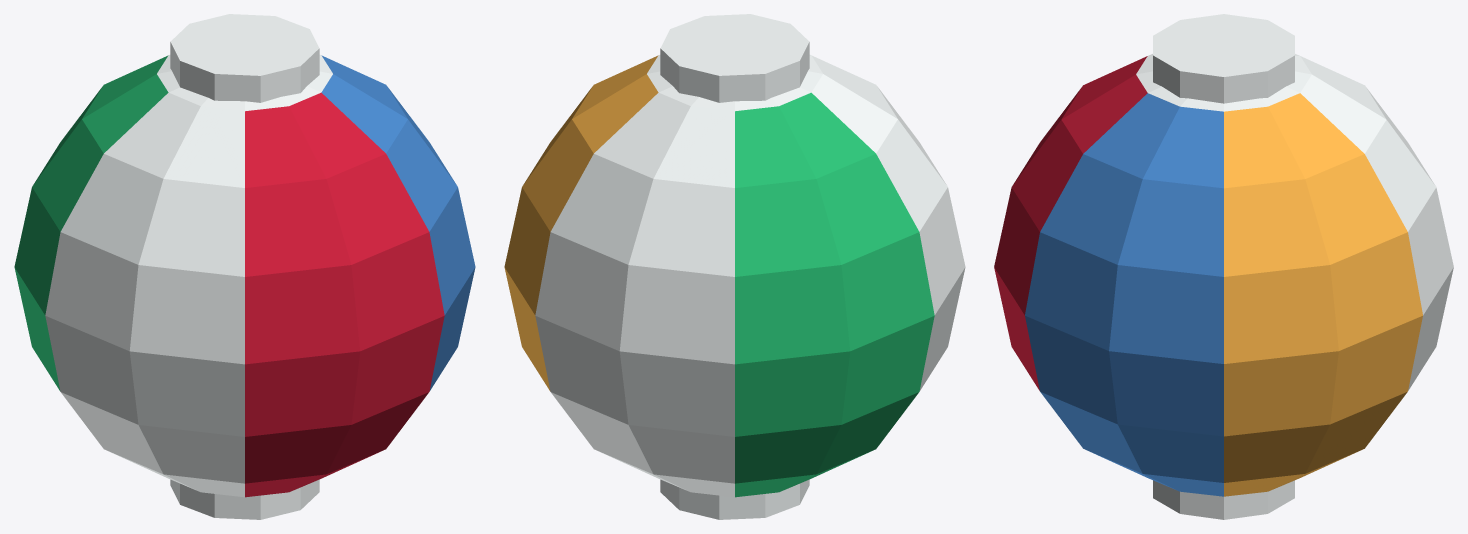
Rendered from ball.glb.
The picture shows the model from 3 angles, left to right: view 1: azimuth 30°, elevation 25°; view 2: azimuth 150°, elevation 25°; view 3: azimuth 270°, elevation 25°; orthographic projection.
Visible parts, largest first — view 1: Ball, CapTop, CapBot; view 2: Ball, CapTop, CapBot; view 3: Ball, CapTop, CapBot.
Part boxes in pixels (x1,y1,x2,y2): Ball: [14, 55, 475, 497]; CapTop: [170, 14, 319, 102]; CapBot: [170, 479, 319, 519]; Ball: [504, 55, 965, 497]; CapTop: [660, 14, 809, 102]; CapBot: [660, 479, 809, 519]; Ball: [994, 54, 1453, 496]; CapTop: [1153, 14, 1294, 103]; CapBot: [1153, 480, 1294, 519].
Bounding box in the file's own units: 0.8 × 0.85 × 0.8.
